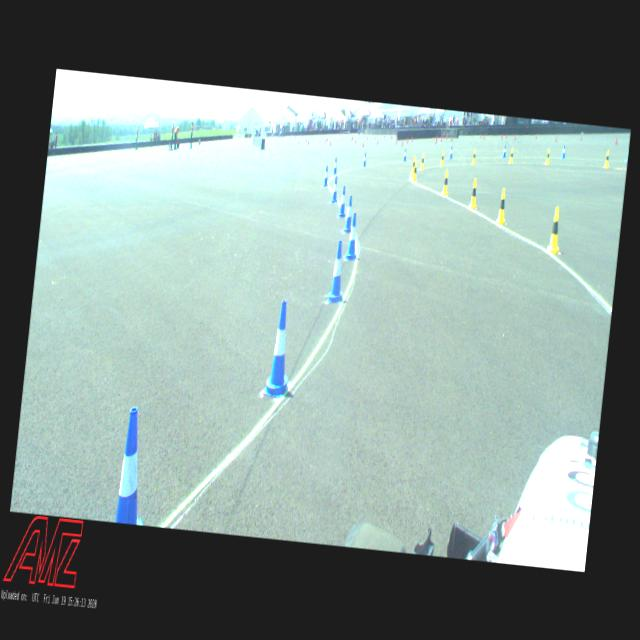blue_cone: (116, 406, 154, 524), (262, 299, 296, 396), (328, 239, 348, 302), (345, 212, 360, 259), (343, 196, 354, 232), (338, 185, 348, 217), (330, 176, 340, 202), (322, 166, 330, 186), (332, 157, 338, 174), (362, 152, 367, 167), (402, 148, 407, 162), (561, 145, 566, 158), (502, 145, 506, 157), (449, 146, 453, 158), (626, 146, 628, 160)
unknown_cone: (615, 136, 618, 144), (330, 136, 332, 146), (500, 132, 502, 140), (483, 132, 485, 140), (401, 138, 403, 146), (514, 133, 516, 140), (323, 136, 325, 143), (362, 140, 364, 146), (554, 136, 556, 142), (580, 134, 582, 140), (506, 132, 508, 138), (450, 134, 452, 140), (440, 136, 442, 142), (410, 136, 412, 142), (395, 138, 397, 144), (376, 138, 378, 144), (307, 139, 309, 145), (338, 135, 340, 141), (354, 138, 356, 143), (442, 133, 444, 138), (298, 139, 300, 144), (322, 133, 324, 138), (534, 134, 536, 138), (446, 134, 448, 138), (305, 138, 307, 142), (302, 135, 304, 139), (300, 134, 302, 138), (407, 136, 408, 143), (435, 138, 436, 144), (327, 136, 328, 141), (391, 133, 392, 138), (390, 134, 391, 138), (395, 132, 396, 136), (375, 134, 376, 138), (367, 136, 368, 140), (351, 136, 352, 140), (383, 133, 384, 137), (364, 132, 365, 136), (372, 132, 373, 136), (377, 132, 378, 136), (352, 135, 353, 139), (312, 134, 312, 138), (288, 136, 288, 140), (480, 132, 480, 138), (436, 134, 436, 140)
yellow_cone: (546, 206, 562, 254), (496, 188, 508, 224), (468, 178, 478, 208), (441, 170, 450, 194), (412, 161, 418, 181), (604, 150, 610, 167), (508, 148, 514, 163), (471, 148, 476, 164), (545, 150, 550, 164), (420, 153, 424, 170), (411, 156, 415, 172), (440, 151, 444, 166)
